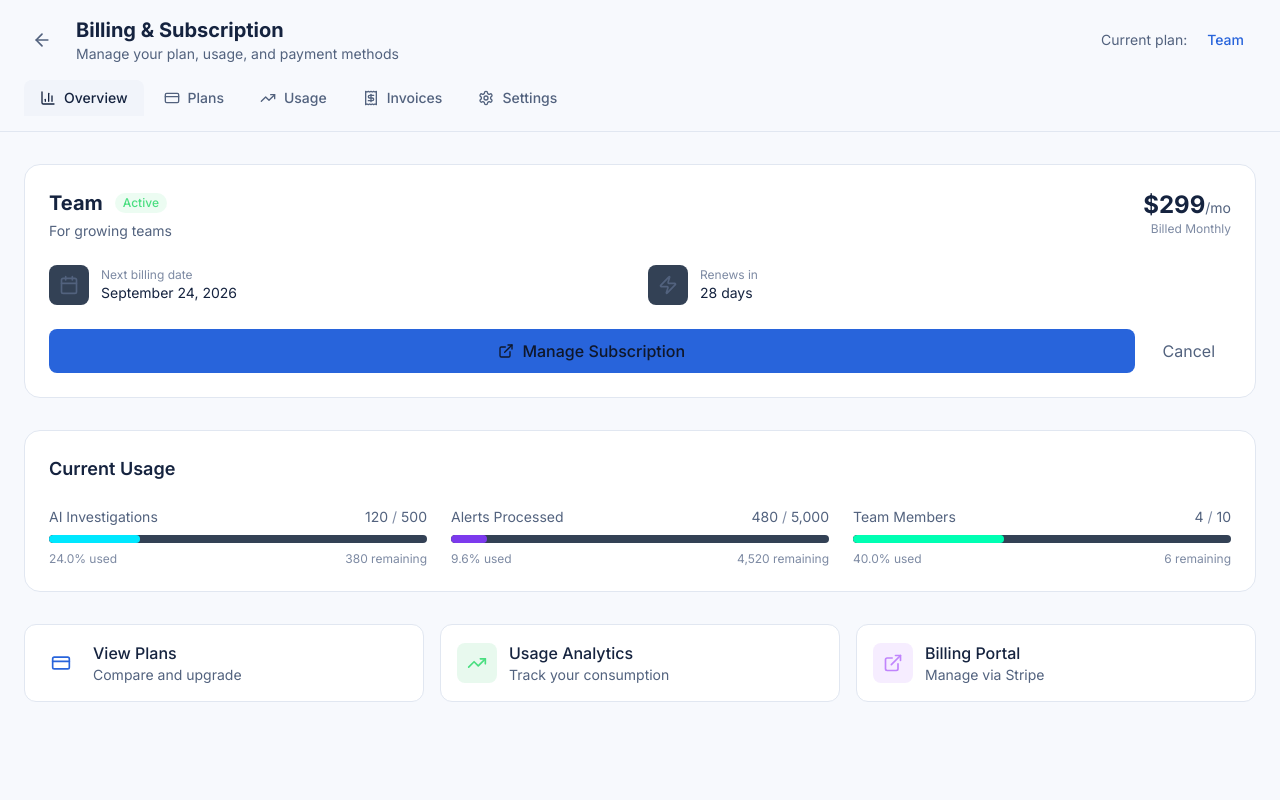
Billing usage history › reports the newest month, not the oldest, as the latest figure
Click the button "Usage" at (293, 98), box [244, 80, 343, 116]
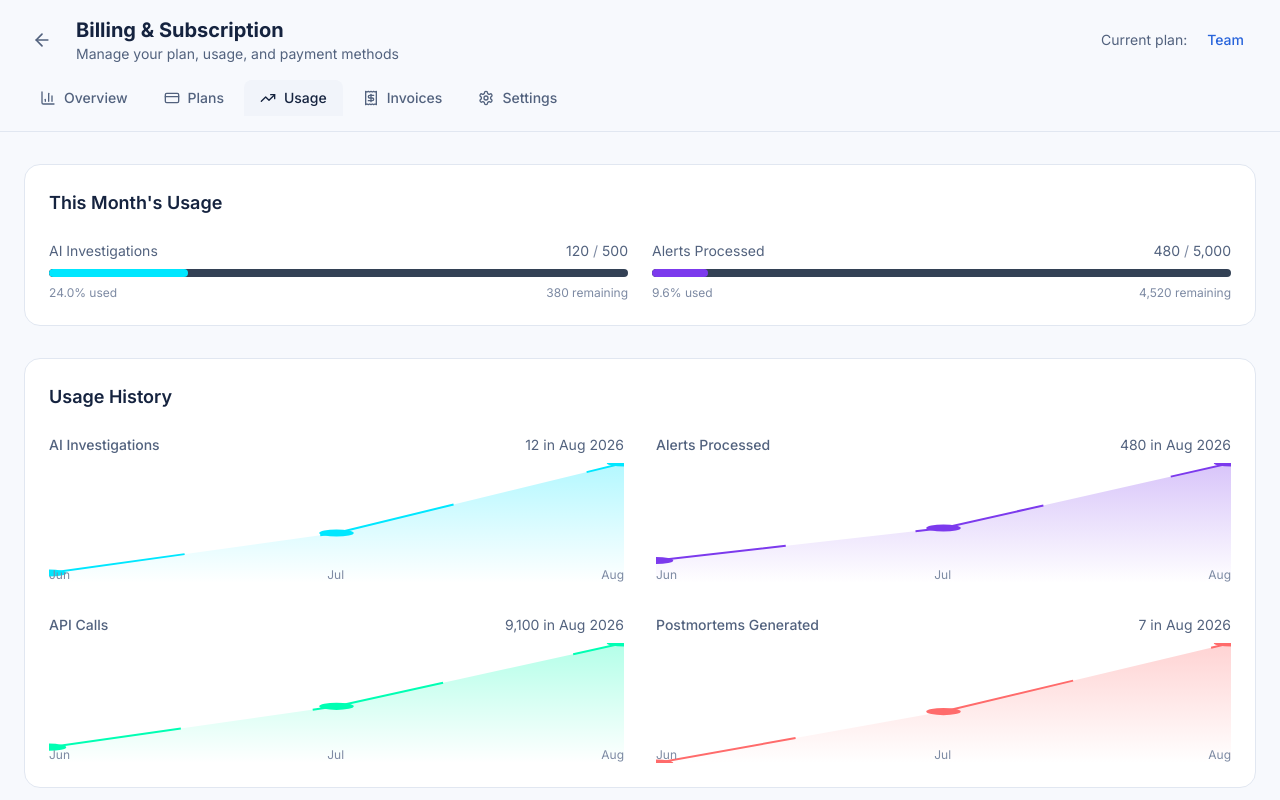
Now the text "12 in Aug 2026" is shown, box [525, 435, 624, 455]
